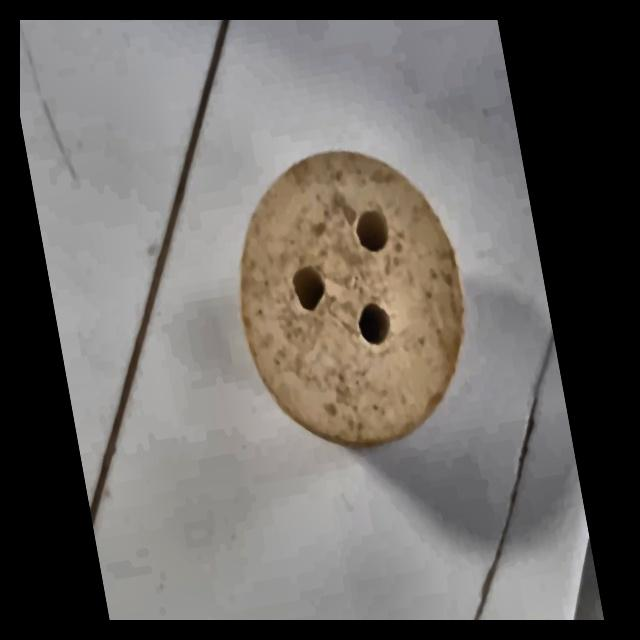Stopper: (217, 119, 492, 474)
